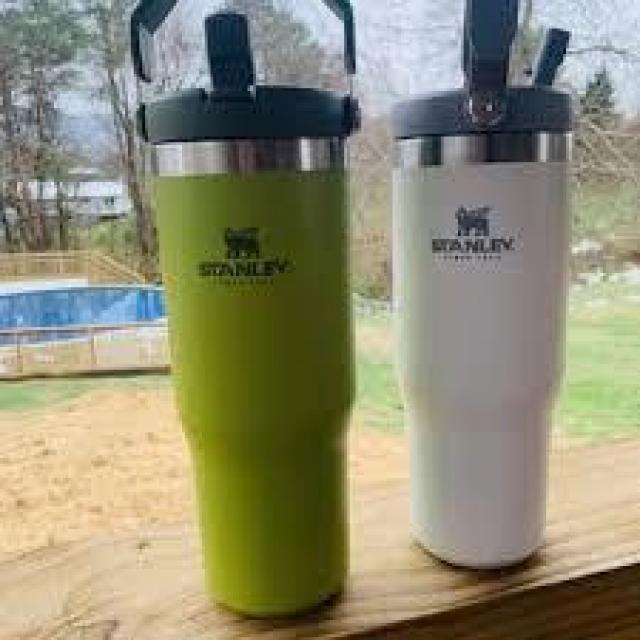bottle: (129, 77, 377, 623), (384, 87, 592, 579)
